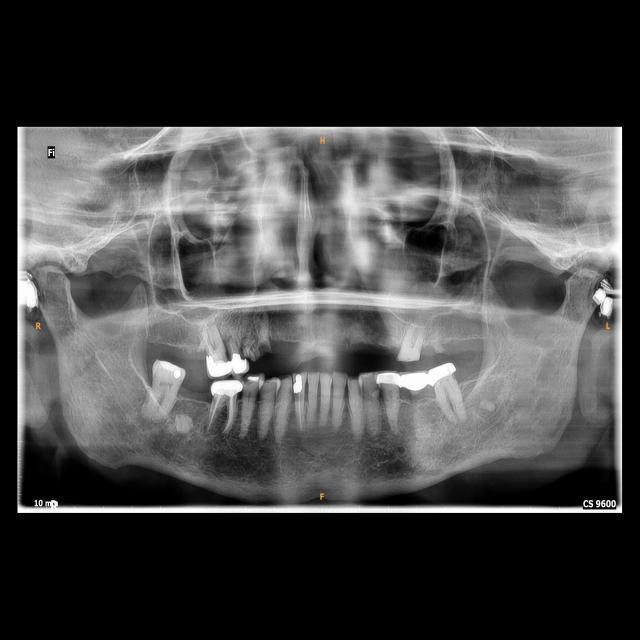dentin-curugu: (242, 338, 274, 362)
dolgu: (154, 357, 185, 381), (288, 372, 306, 394), (244, 375, 264, 387)
kanal-tedavisi: (204, 395, 236, 432), (294, 394, 307, 428)
kaplama: (425, 363, 456, 385), (211, 379, 244, 398), (204, 356, 232, 378), (229, 353, 248, 376), (377, 372, 403, 387)
kopru: (398, 370, 430, 400)
